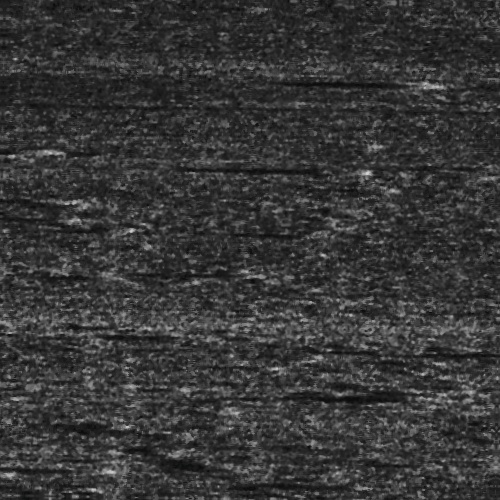object: (369, 75, 484, 84), (201, 266, 294, 277), (156, 327, 209, 344), (21, 196, 94, 205), (20, 148, 73, 155), (107, 228, 160, 235), (64, 214, 105, 223), (319, 480, 392, 485), (432, 388, 463, 395), (91, 468, 122, 473), (0, 472, 19, 479), (324, 165, 345, 168)
shadow: (106, 327, 182, 344), (283, 75, 426, 84), (134, 266, 247, 277), (418, 344, 500, 355), (2, 214, 84, 223), (348, 388, 448, 395), (0, 468, 106, 473), (0, 196, 58, 205), (251, 480, 355, 485), (186, 165, 334, 168), (0, 148, 47, 155), (93, 228, 133, 235)
